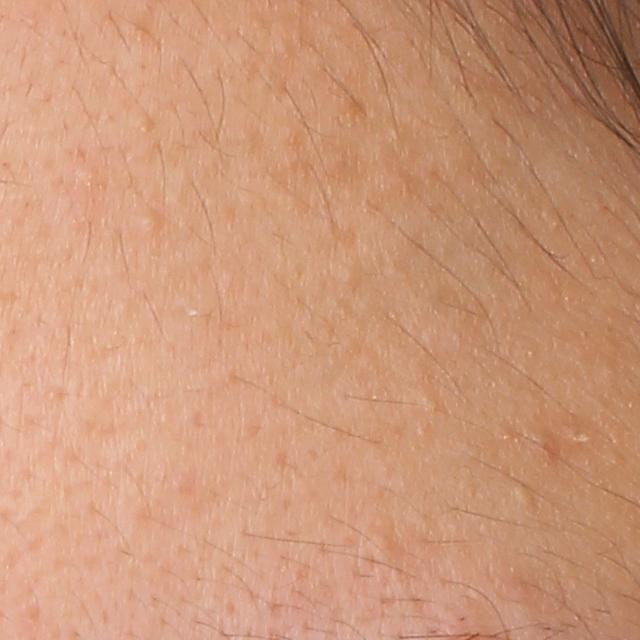comedo: (137, 211, 165, 241), (415, 389, 441, 419), (515, 484, 539, 509)
